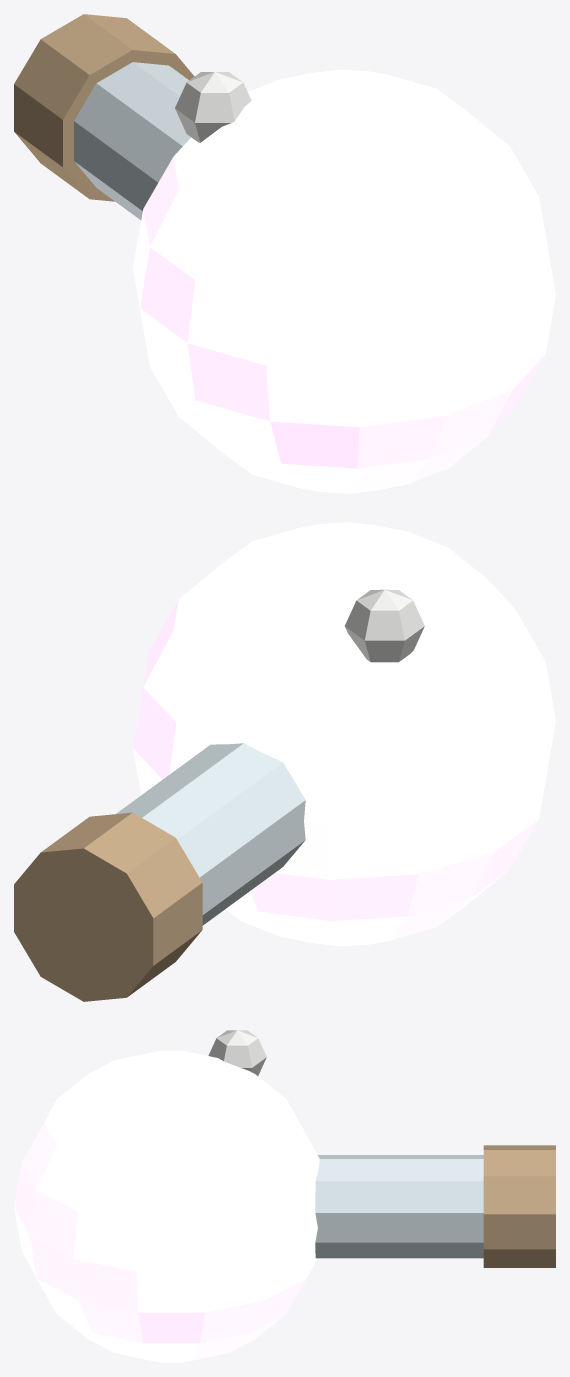
Rendered from stoneskin_held.gltf.
3 renders of one model, top to bottom at view 1: azimuth 30°, elevation 25°; view 2: azimuth 150°, elevation 25°; view 3: azimuth 270°, elevation 25°, orthographic. The views are drawn at different scales.
Visible parts, largest first — view 1: alchemy_stoneskin_held; view 2: alchemy_stoneskin_held; view 3: alchemy_stoneskin_held.
Part boxes in pixels (x1=…): alchemy_stoneskin_held: x1=14, y1=14, x2=555, y2=493; alchemy_stoneskin_held: x1=14, y1=522, x2=555, y2=1001; alchemy_stoneskin_held: x1=14, y1=1030, x2=555, y2=1362.
Bounding box in the file's own units: 0.0936 × 0.097 × 0.165.
